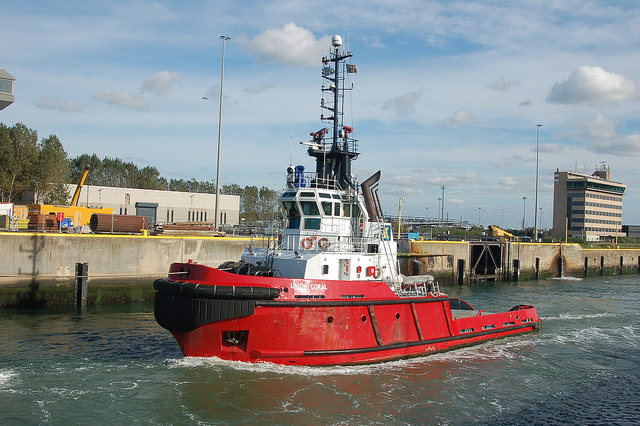tug_boat: (150, 39, 558, 378)
